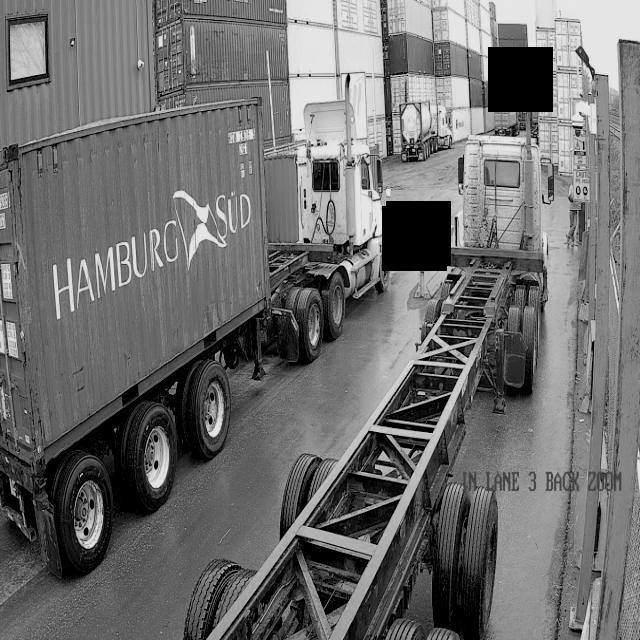container_company_logo: (41, 178, 255, 308)
truck_with_container: (0, 87, 395, 576)
truck_without_container: (204, 126, 555, 640)
